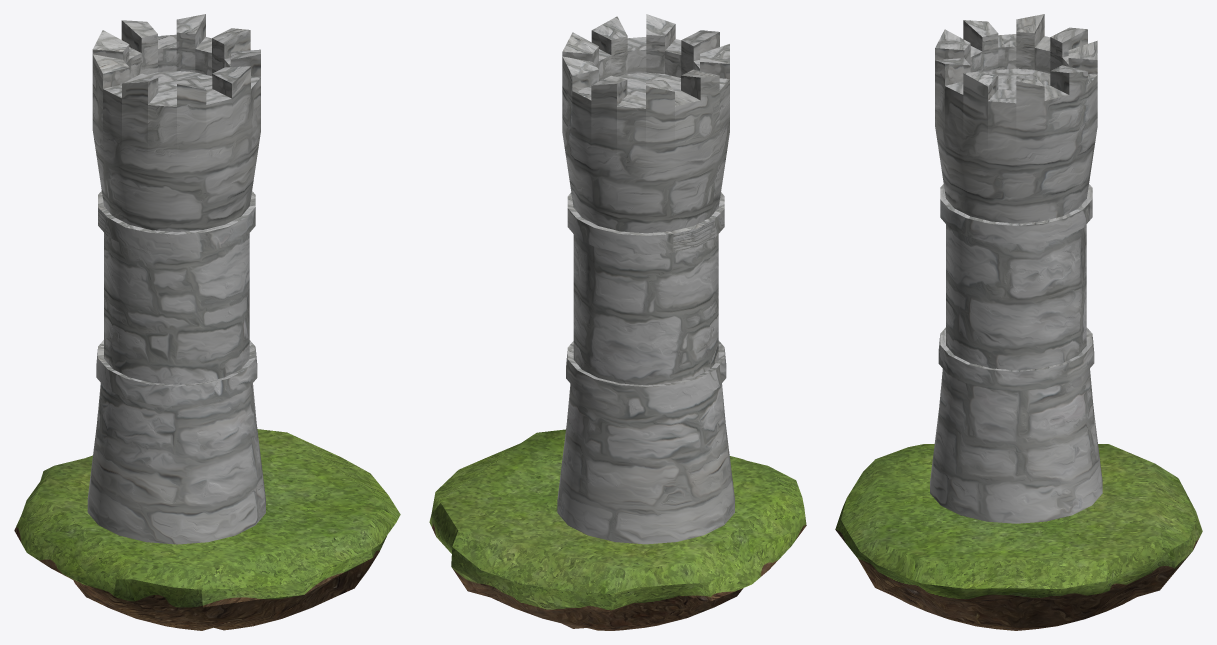
Rendered from Island_tower.FBX.
The picture shows the model from 3 angles, left to right: view 1: azimuth 30°, elevation 25°; view 2: azimuth 150°, elevation 25°; view 3: azimuth 270°, elevation 25°; orthographic projection. The views are drawn at different scales.
Visible parts, largest first — view 1: Cylinder016; view 2: Cylinder016; view 3: Cylinder016.
Part boxes in pixels (<box>): Cylinder016: <box>14,14,400,630</box>; Cylinder016: <box>429,14,806,630</box>; Cylinder016: <box>835,14,1202,630</box>.
Size of the model in its own units: 384 by 668 by 398.
